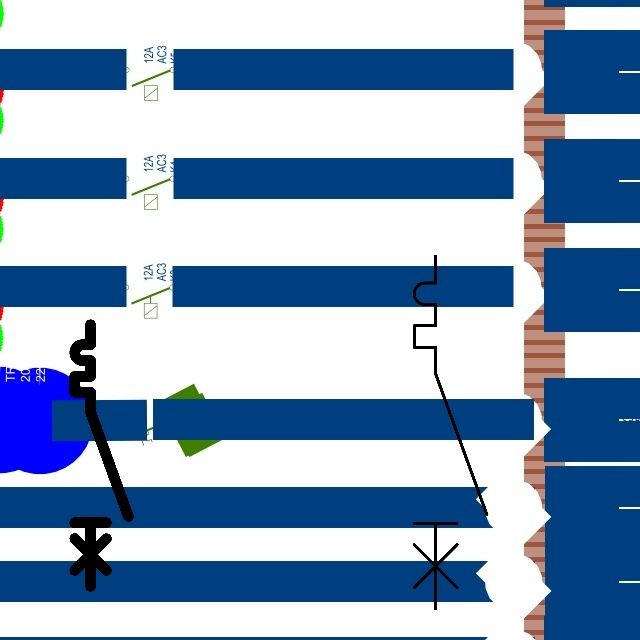interruptor_termomagnetico: (405, 247, 495, 618), (68, 318, 135, 593)
